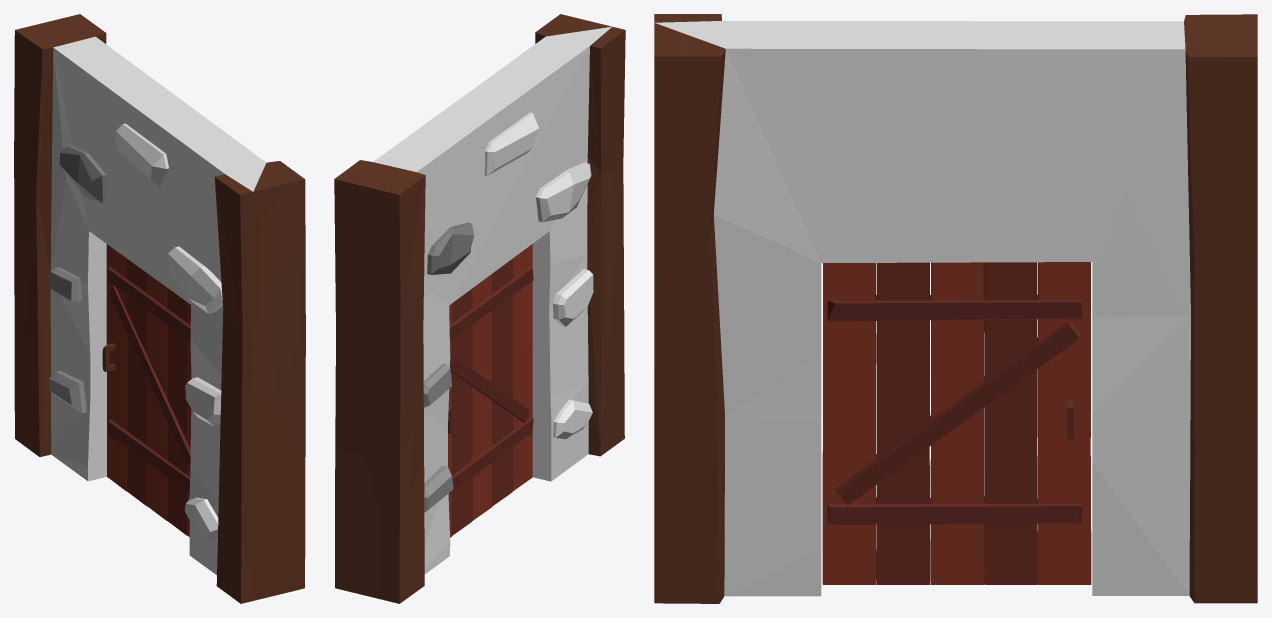
The model's file is Wall stones_Door.fbx.
3 views of the same model, side by side, from view 1: azimuth 30°, elevation 25°; view 2: azimuth 150°, elevation 25°; view 3: azimuth 270°, elevation 25° (orthographic). The views are drawn at different scales.
Parts seen in each view (by area): view 1: Wall stones_Door, Door.001, Wall stones.022, Wall stones.023, Wall stones.017, Wall stones.020, Wall stones.019, Wall stones.021, Wall stones.024; view 2: Wall stones_Door, Door.001, Wall stones.022, Wall stones.023, Wall stones.017, Wall stones.020, Wall stones.021, Wall stones.019, Wall stones.024; view 3: Wall stones_Door, Door.001.
Boxes of the visible parts, left/top/right/bottom form: Wall stones_Door: left=14, top=14, right=305, bottom=603; Door.001: left=102, top=244, right=191, bottom=536; Wall stones.022: left=168, top=246, right=222, bottom=313; Wall stones.023: left=115, top=123, right=168, bottom=186; Wall stones.017: left=59, top=145, right=106, bottom=203; Wall stones.020: left=185, top=377, right=221, bottom=426; Wall stones.019: left=49, top=370, right=86, bottom=413; Wall stones.021: left=184, top=497, right=218, bottom=544; Wall stones.024: left=48, top=267, right=82, bottom=301; Wall stones_Door: left=334, top=14, right=625, bottom=603; Door.001: left=448, top=244, right=533, bottom=537; Wall stones.022: left=536, top=162, right=591, bottom=222; Wall stones.023: left=484, top=112, right=538, bottom=175; Wall stones.017: left=427, top=222, right=474, bottom=274; Wall stones.020: left=553, top=269, right=593, bottom=326; Wall stones.021: left=553, top=399, right=592, bottom=439; Wall stones.019: left=424, top=466, right=453, bottom=512; Wall stones.024: left=423, top=363, right=451, bottom=407; Wall stones_Door: left=654, top=14, right=1257, bottom=603; Door.001: left=822, top=262, right=1091, bottom=584.
Size of the model in its own units: 0.52 by 3 by 3.
